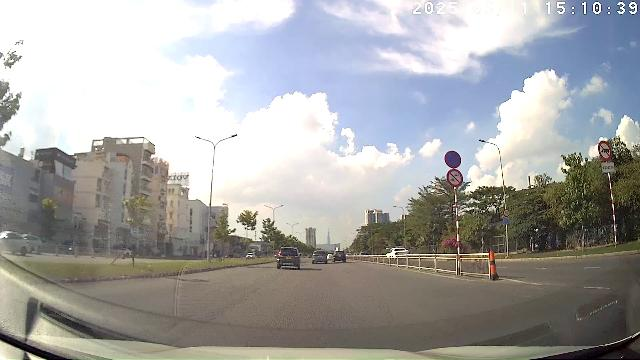130-cam-dung-va-do-xe: (444, 150, 462, 168)
